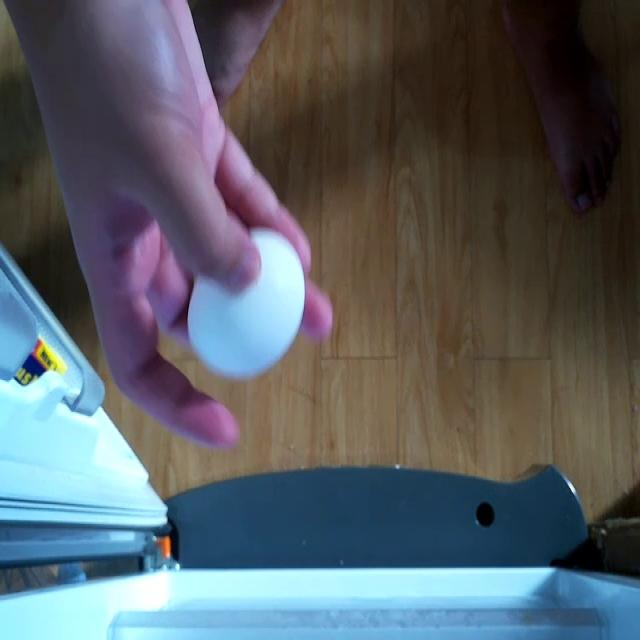egg: (188, 225, 312, 387)
